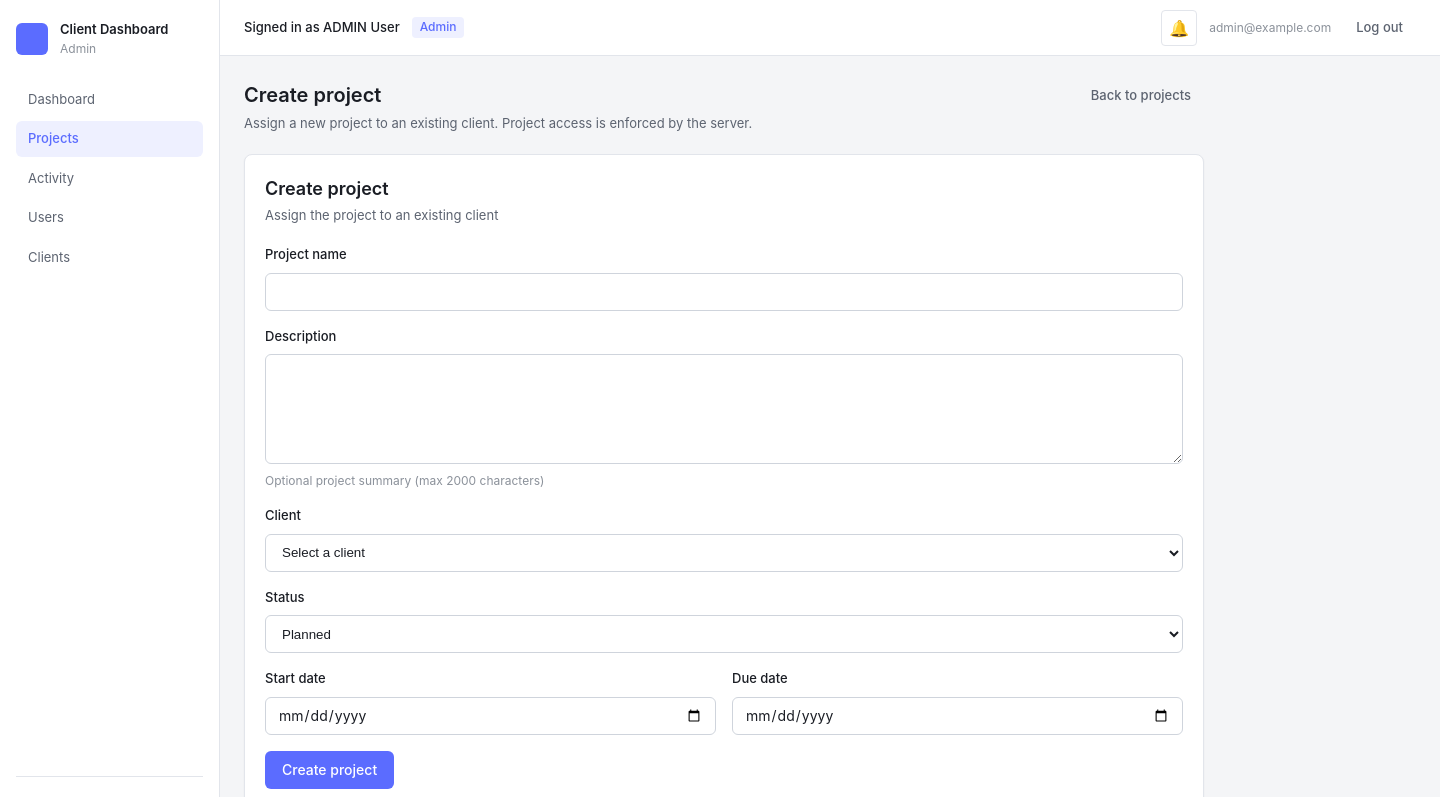
Test: Project management UI › validates required fields on project creation form
This screenshot has width=1440, height=797.
expect the field labelled "Project name" is shown: met, box [265,272,1183,310]
Click the button "Create project": (330, 770) [265,750,394,788]
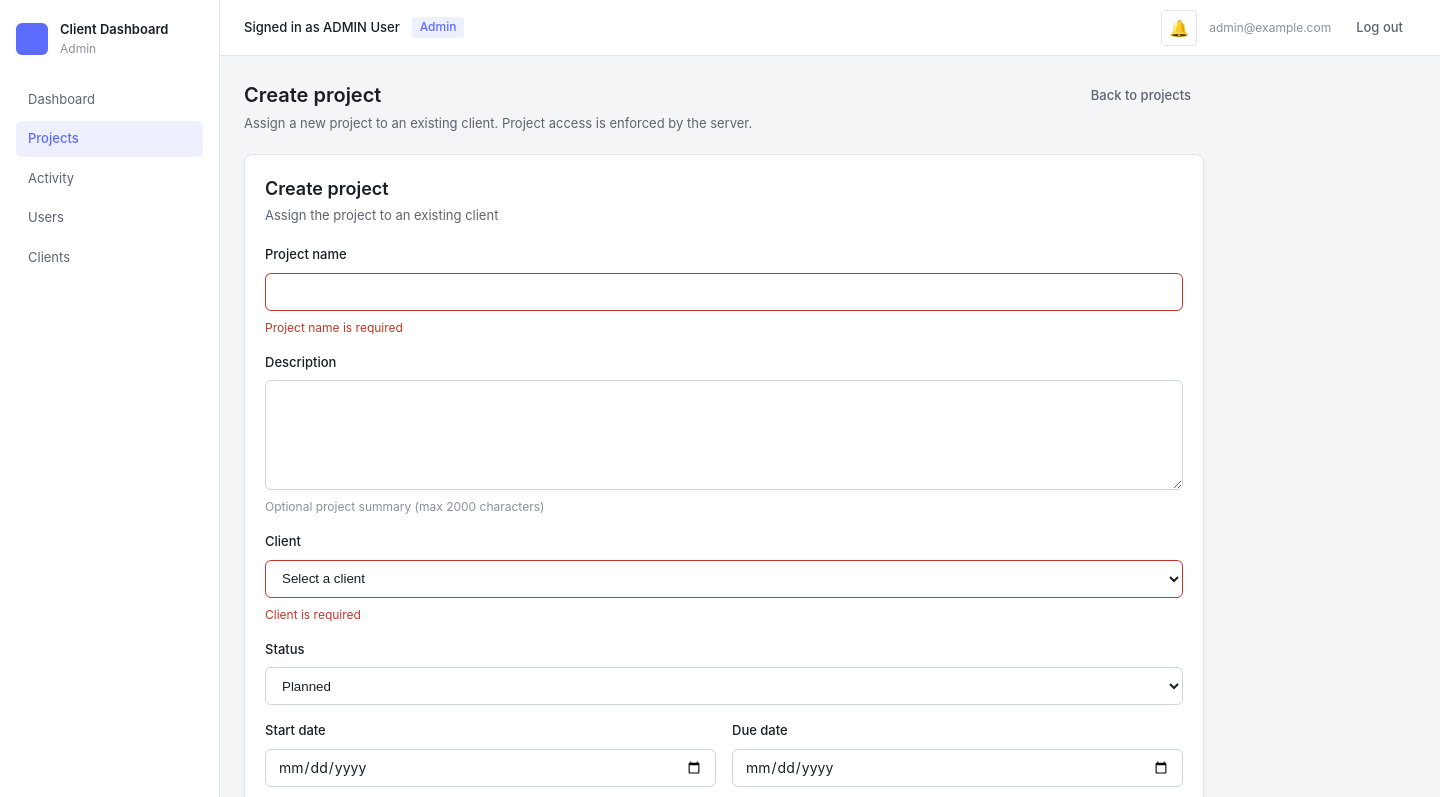
expect the text "Project name is required" is shown: met, box [265,320,403,334]
expect the text "Client is required" is shown: met, box [265,606,361,622]
